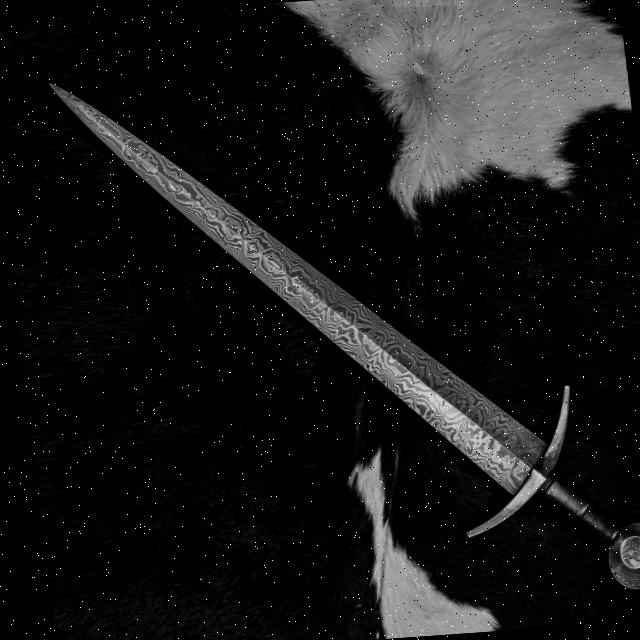knife: (43, 39, 640, 628)
